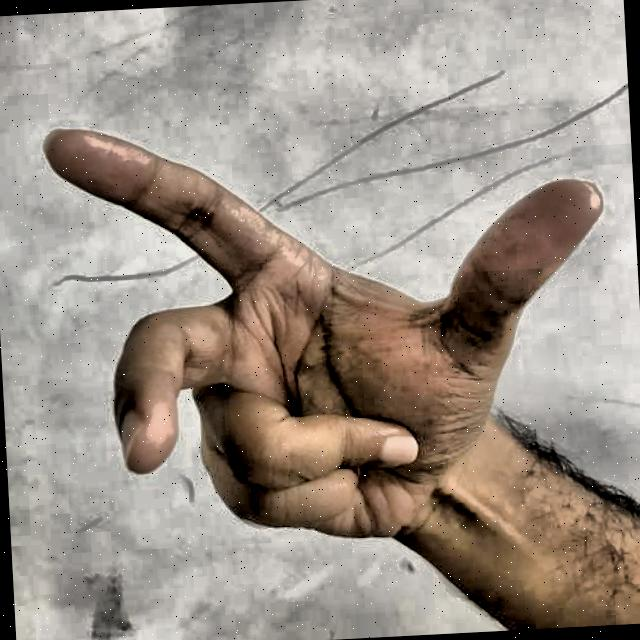Da: (23, 21, 637, 612)
